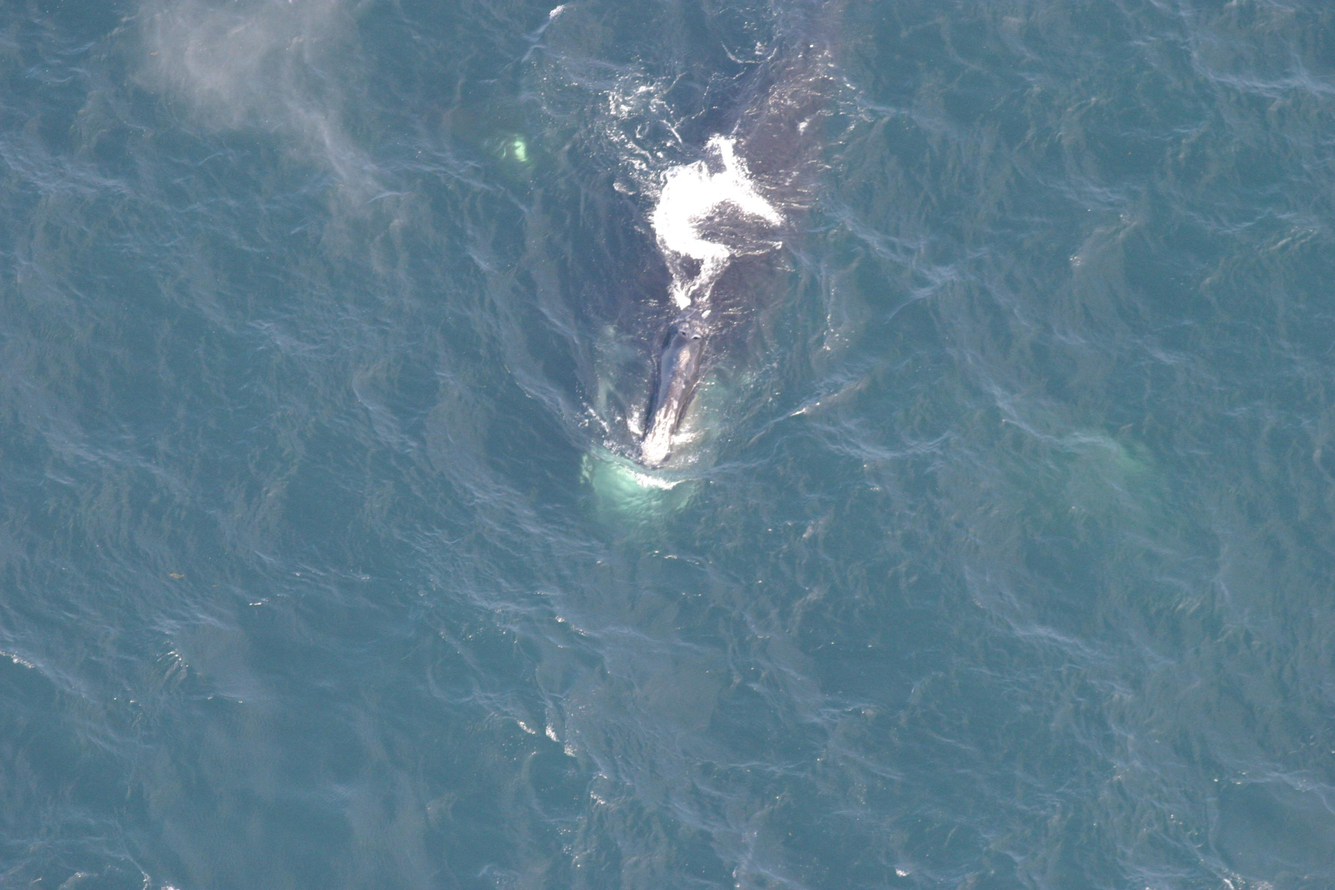whale: (565, 0, 870, 522)
